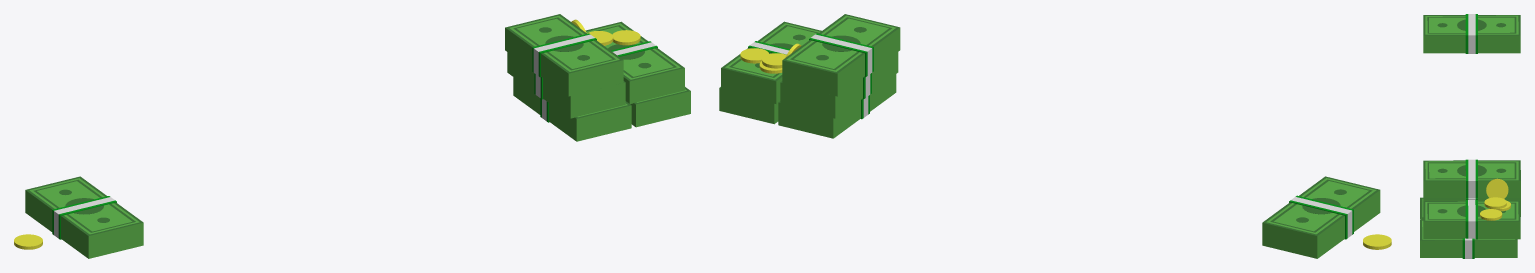
File: money_-_lowpoly.glb
3 renders of one model, left to right at view 1: azimuth 30°, elevation 25°; view 2: azimuth 150°, elevation 25°; view 3: azimuth 270°, elevation 25°, orthographic. The views are drawn at different scales.
Visible parts, largest first — view 1: Money Big, Money, Coin; view 2: Money Big, Money, Coin; view 3: Money Big, Money.
Part boxes in pixels (box(x1,y1,x2,y2)): Money Big: box(505, 14, 690, 141); Money: box(25, 176, 143, 258); Coin: box(14, 234, 42, 249); Money Big: box(719, 14, 900, 138); Money: box(1262, 176, 1380, 258); Coin: box(1363, 234, 1391, 249); Money Big: box(1420, 159, 1520, 258); Money: box(1423, 14, 1520, 53).
Size of the model in its own units: 119 by 12.87 by 20.94.
Materials: 3 (3 with a texture image).
